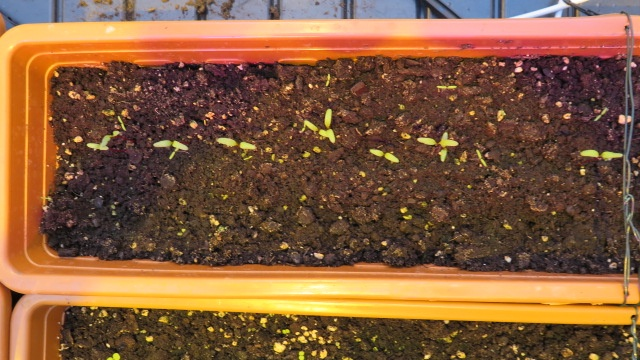crop: (321, 108, 342, 145), (214, 137, 260, 151), (576, 147, 625, 160), (366, 147, 401, 165), (304, 118, 329, 142), (86, 142, 128, 156), (416, 137, 459, 148), (153, 140, 194, 151), (438, 132, 451, 162)
weed: (590, 106, 611, 122), (473, 148, 488, 168), (320, 72, 332, 87), (116, 115, 127, 131), (435, 83, 458, 90), (297, 350, 307, 359), (281, 328, 289, 333)
